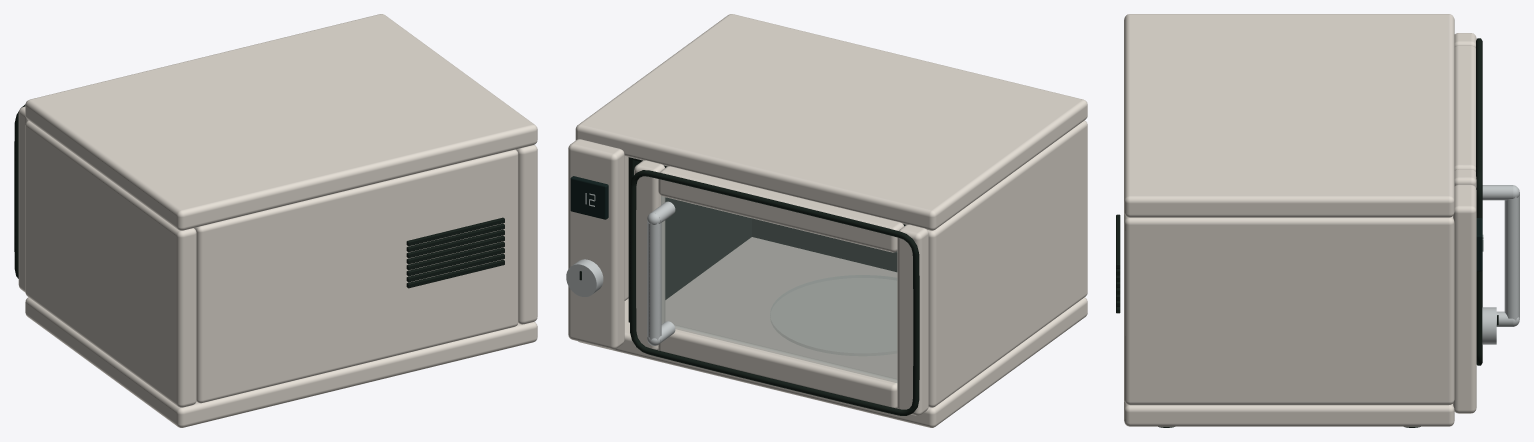
File: kitchen-counter-microwave.glb
3 views of the same model, side by side, from view 1: azimuth 30°, elevation 25°; view 2: azimuth 150°, elevation 25°; view 3: azimuth 270°, elevation 25° (orthographic). The views are drawn at different scales.
Parts seen in each view (by area): view 1: cream_surfaces, dark_surfaces; view 2: cream_surfaces, glass_surfaces, dark_surfaces, steel_surfaces; view 3: cream_surfaces, steel_surfaces, dark_surfaces.
Boxes of the visible parts, box(x1,y1,x2,y2) form: cream_surfaces: box(18, 14, 537, 427); dark_surfaces: box(14, 104, 504, 288); cream_surfaces: box(568, 14, 1087, 427); glass_surfaces: box(661, 196, 897, 382); dark_surfaces: box(570, 157, 919, 415); steel_surfaces: box(566, 201, 675, 345); cream_surfaces: box(1124, 14, 1476, 426); steel_surfaces: box(1482, 185, 1519, 344); dark_surfaces: box(1116, 38, 1498, 427).
Size of the model in its own units: 0.52 by 0.314 by 0.4765.
4 materials, 3 textured.
